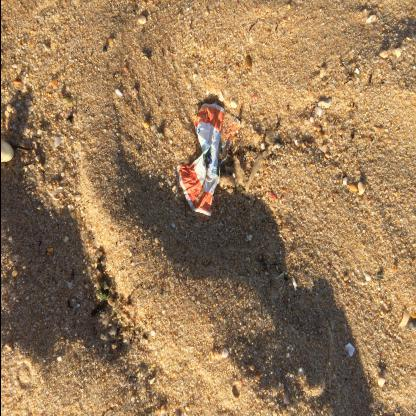plastik: (176, 102, 242, 217)
